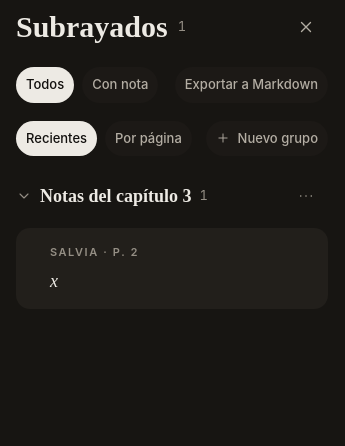
Test: HighlightsPanel groups › does not delete when the confirmation is cancelled
Step 1. Click the button named "Opciones del grupo" → (306, 196), box [284,174,328,218]
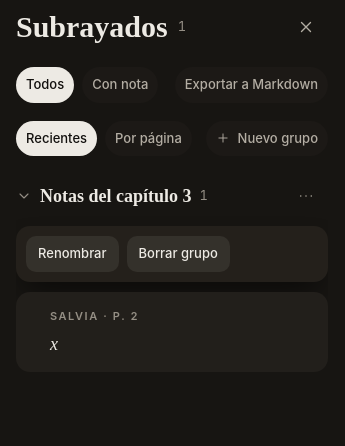
Step 2. Click the button "Borrar grupo" → (178, 254), box [126,236,230,272]
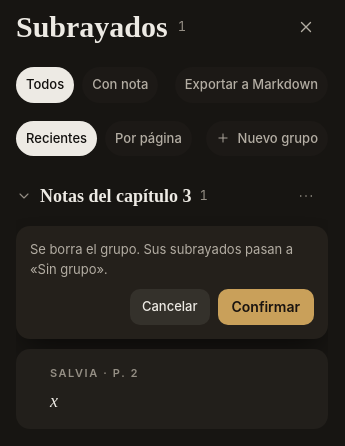
Step 3. Click the button "Cancelar" → (170, 307), box [130,289,210,324]
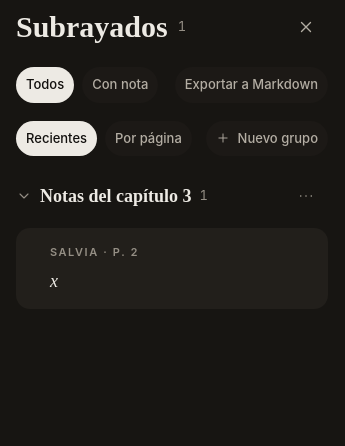
Expected: the button "Confirmar" is gone
